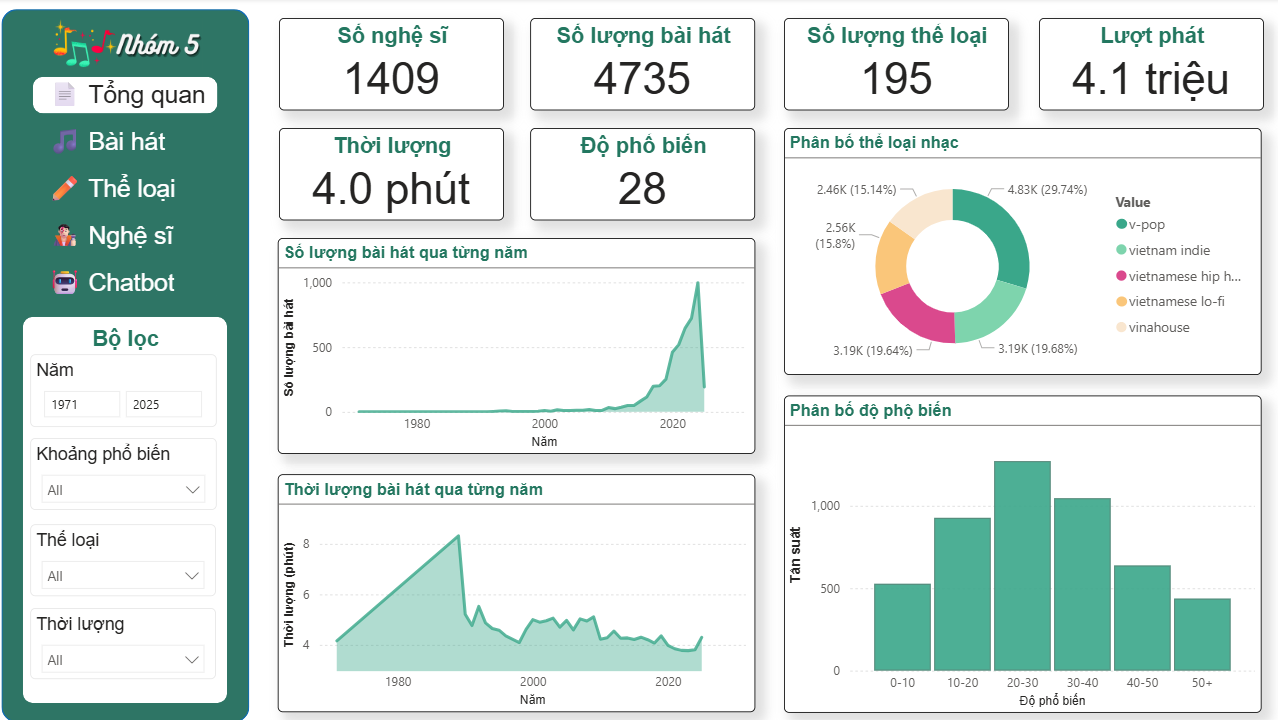

This screenshot's page, from the dashboard's own definition file:
{"tool":"powerbi","page":{"name":"📄 Tổng quan","canvas":[1280,720],"ordinal":0},"visuals":[{"type":"shape","title":"Menu Background","box":[17.3,11.3,242.7,697.3],"z":0},{"type":"card","title":"Số nghệ sĩ","fields":{"Values":["Count(artists.Value)"]},"box":[288,20,220,90],"z":1000},{"type":"card","title":"Số lượng bài hát","fields":{"Values":["Count(vietnamese_only_songs_clean.id)"]},"box":[534.7,20,220,90],"z":2000},{"type":"card","title":"Số lượng thể loại","fields":{"Values":["Count(genres.Value)"]},"box":[782.7,20,220,90],"z":3000},{"type":"card","title":"Lượt phát","fields":{"Values":["vietnamese_only_songs_clean.stream_counts_format"]},"box":[1032.7,20,220,90],"z":4000},{"type":"card","title":"Thời lượng","fields":{"Values":["vietnamese_only_songs_clean.duration_minute"]},"box":[288,127.3,220,90],"z":5000},{"type":"card","title":"Độ phổ biến","fields":{"Values":["Avg(vietnamese_only_songs_clean.popularity)"]},"box":[534.7,127.3,220,90],"z":6000},{"type":"stackedAreaChart","title":"Số lượng bài hát qua từng năm","fields":{"Category":["vietnamese_only_songs_clean.Year"],"Y":["Count(vietnamese_only_songs_clean.id)"]},"box":[287.5,235,467.5,211.2],"z":7000},{"type":"stackedAreaChart","title":"Thời lượng bài hát qua từng năm","fields":{"Category":["vietnamese_only_songs_clean.Year"],"Y":["vietnamese_only_songs_clean.duration_minute"]},"box":[287.5,466.2,467.5,232.5],"z":8000},{"type":"donutChart","title":"Phân bố thể loại nhạc","fields":{"Category":["genres.Value"],"Y":["CountNonNull(genres.Value)"]},"box":[782.5,127.4,467.5,241.2],"z":9000},{"type":"columnChart","title":"Phân bố độ phộ biến","fields":{"Category":["vietnamese_only_songs_clean.Popularity Bin"],"Y":["CountNonNull(vietnamese_only_songs_clean.popularity)"]},"box":[782.7,388.7,467.3,310],"z":10000},{"type":"shape","title":"Bộ lọc","box":[38,312,200,378],"z":11000},{"type":"shape","box":[76,314,125.3,38.7],"z":12000},{"type":"slicer","title":"Năm","fields":{"Values":["vietnamese_only_songs_clean.Year"]},"box":[45.7,348.6,182.1,71.4],"z":13000},{"type":"slicer","title":"Khoảng phổ biến","fields":{"Values":["vietnamese_only_songs_clean.Popularity Bin"]},"box":[45.7,430.7,182.1,70],"z":14000},{"type":"slicer","title":"Thời lượng","fields":{"Values":["vietnamese_only_songs_clean.duration_min_bin"]},"box":[45.7,597.1,181.4,69.3],"z":15000},{"type":"slicer","title":"Thể loại","fields":{"Values":["genres.Value"]},"box":[45.7,515,181.4,70.7],"z":16000},{"type":"image","box":[53.6,15,167.9,62.1],"z":17000},{"type":"pageNavigator","title":"Menu Buttons","box":[48,77.3,181.3,224],"z":18000}]}

Visuals, with their boxes in screenshot pixels (x1, y1, x2, y2), scaled from the page's 1280x720 canvas onto the 1278x720 screenshot:
"Menu Background" shape: (17,11,260,709)
"Số nghệ sĩ" card: (288,20,507,110)
"Số lượng bài hát" card: (534,20,754,110)
"Số lượng thể loại" card: (781,20,1001,110)
"Lượt phát" card: (1031,20,1251,110)
"Thời lượng" card: (288,127,507,217)
"Độ phổ biến" card: (534,127,754,217)
"Số lượng bài hát qua từng năm" stackedAreaChart: (287,235,754,446)
"Thời lượng bài hát qua từng năm" stackedAreaChart: (287,466,754,699)
"Phân bố thể loại nhạc" donutChart: (781,127,1248,369)
"Phân bố độ phộ biến" columnChart: (781,389,1248,699)
"Bộ lọc" shape: (38,312,238,690)
shape: (76,314,201,353)
"Năm" slicer: (46,349,227,420)
"Khoảng phổ biến" slicer: (46,431,227,501)
"Thời lượng" slicer: (46,597,227,666)
"Thể loại" slicer: (46,515,227,586)
image: (54,15,221,77)
"Menu Buttons" pageNavigator: (48,77,229,301)
